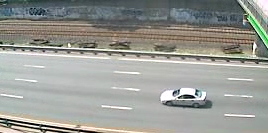car: (158, 86, 212, 110)
